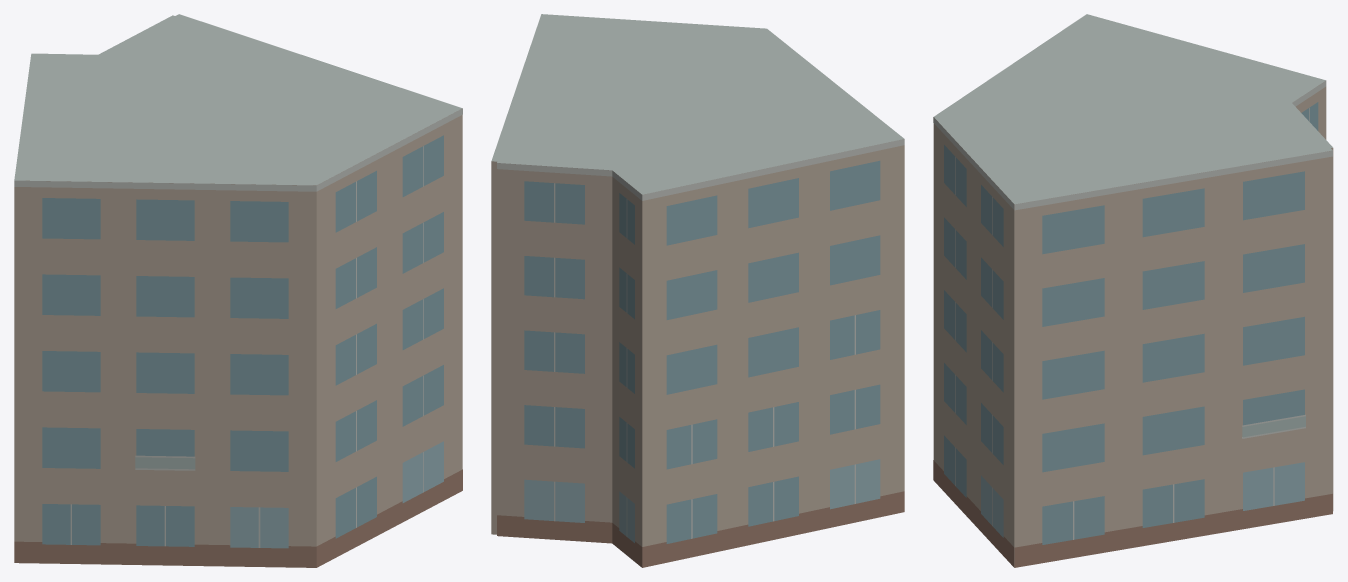
The model's file is survey-upis-33012421.glb.
3 views of the same model, side by side, from view 1: azimuth 30°, elevation 25°; view 2: azimuth 150°, elevation 25°; view 3: azimuth 270°, elevation 25° (orthographic). The views are drawn at different scales.
Visible parts, largest first — view 1: survey-upis-33012421.tmp; view 2: survey-upis-33012421.tmp; view 3: survey-upis-33012421.tmp.
Boxes of the visible parts, x1,y1,x2,y2 form: survey-upis-33012421.tmp: (14,14,462,567); survey-upis-33012421.tmp: (491,14,904,567); survey-upis-33012421.tmp: (933,14,1333,567).
Bounding box in the file's own units: 16.52 × 14.7 × 14.66.
